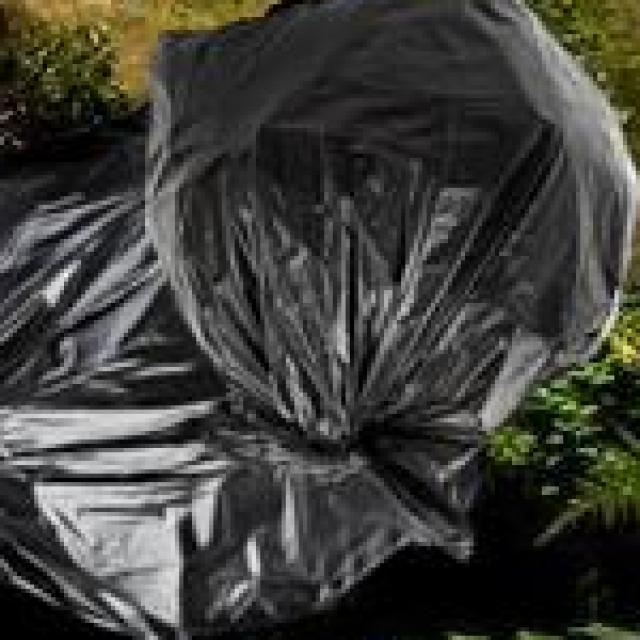Trashbag: (133, 0, 640, 481)
